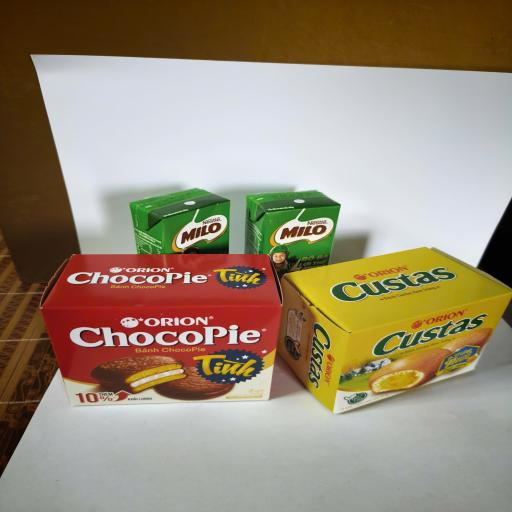chocopie: (40, 254, 282, 406)
custas: (276, 246, 512, 414)
milo: (245, 190, 341, 281), (129, 188, 231, 254)
